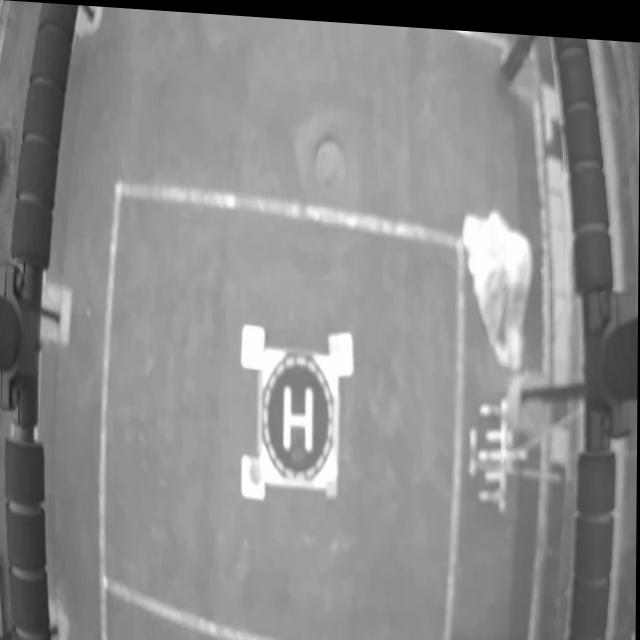Helipad: (282, 383, 313, 448)
